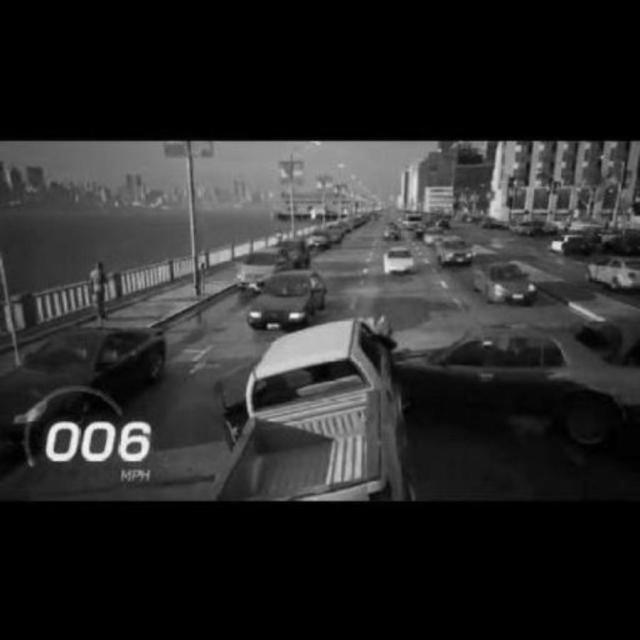accident: (216, 321, 634, 498)
vehicle: (1, 324, 168, 444), (247, 267, 328, 329), (473, 256, 537, 307), (585, 249, 640, 293), (237, 241, 285, 291), (434, 233, 479, 269), (381, 248, 421, 278), (303, 227, 333, 251)
